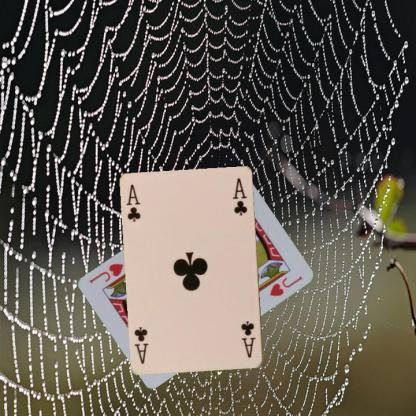Ac: (239, 318, 257, 360), (124, 182, 142, 224)
